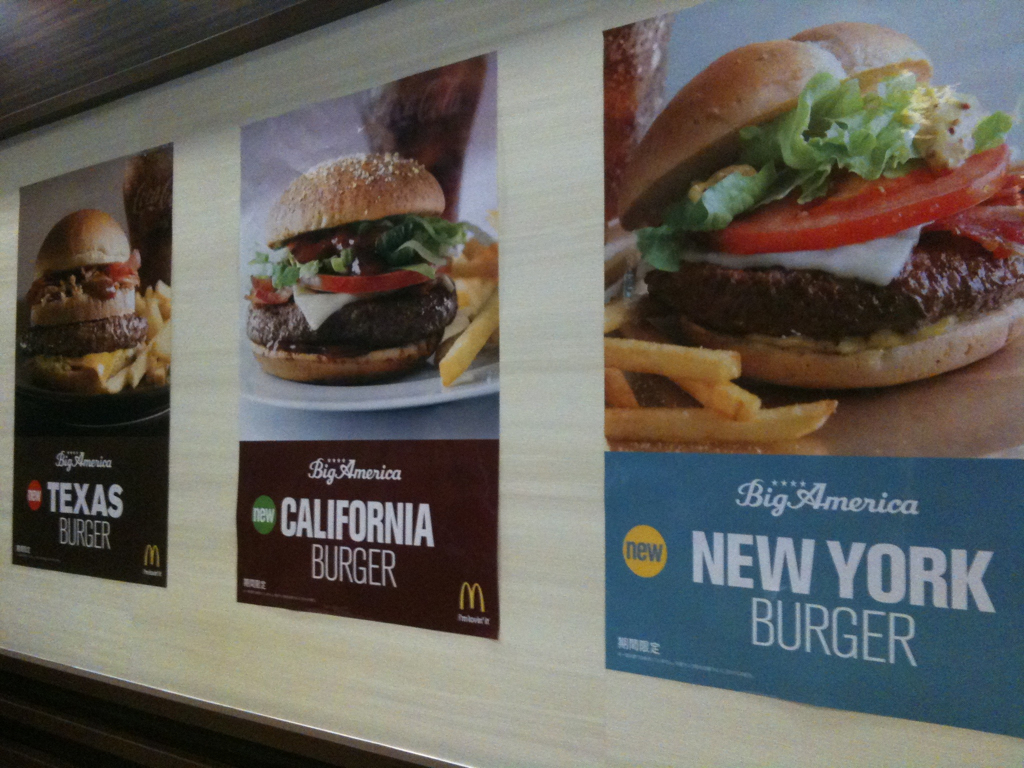Hamburger: (616, 21, 1022, 392), (245, 155, 467, 385), (19, 211, 142, 392)
